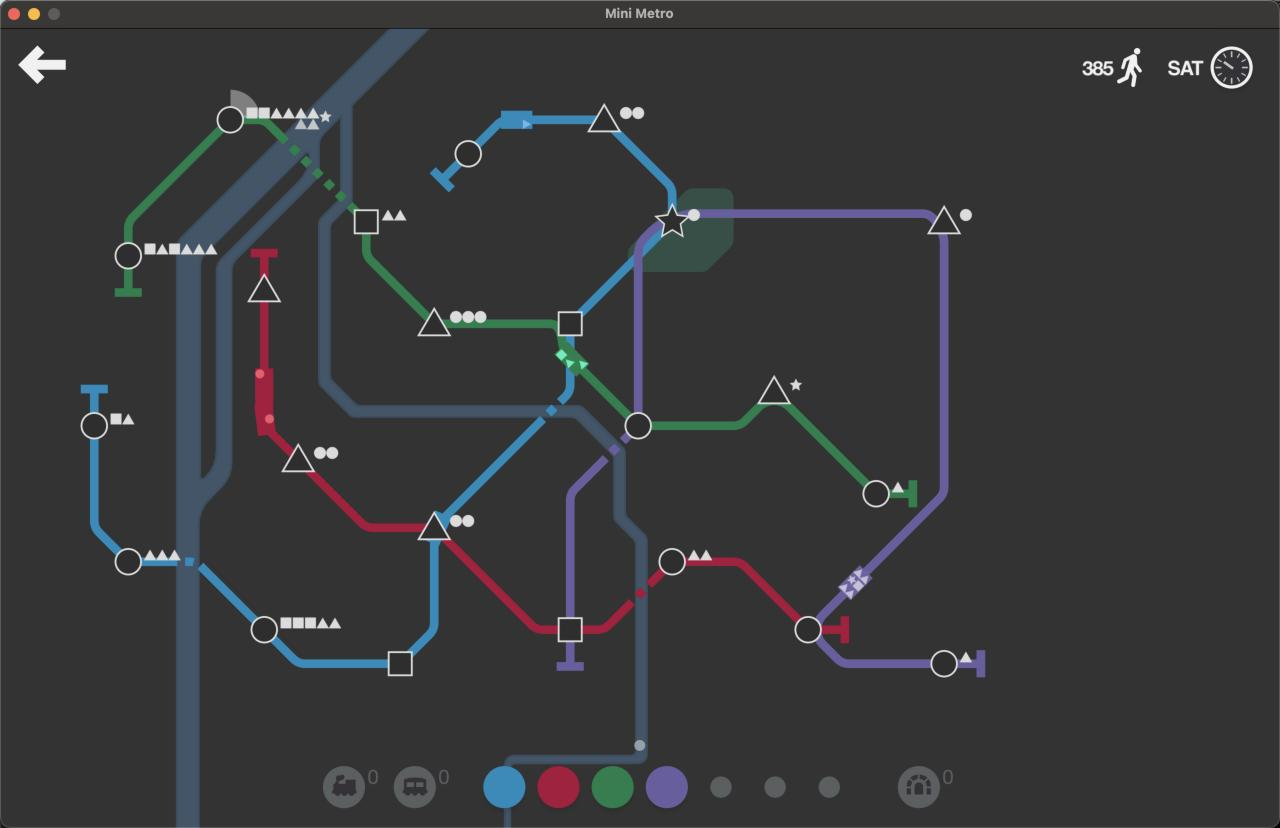CIRCLE: (862, 479, 891, 509), (250, 615, 279, 644), (658, 547, 687, 576), (794, 615, 822, 645), (930, 649, 958, 678), (114, 547, 142, 576), (216, 105, 244, 134), (624, 411, 652, 440), (454, 139, 482, 168), (80, 411, 108, 440), (115, 241, 143, 270)
SQUARE: (557, 615, 583, 644), (353, 208, 379, 235), (557, 310, 584, 336), (387, 650, 413, 677)
STAR: (653, 203, 692, 238)
TRIANGLE: (416, 511, 453, 543), (416, 306, 452, 338), (926, 205, 962, 236), (281, 442, 315, 474), (757, 374, 792, 405), (246, 273, 282, 303), (587, 102, 621, 133)
